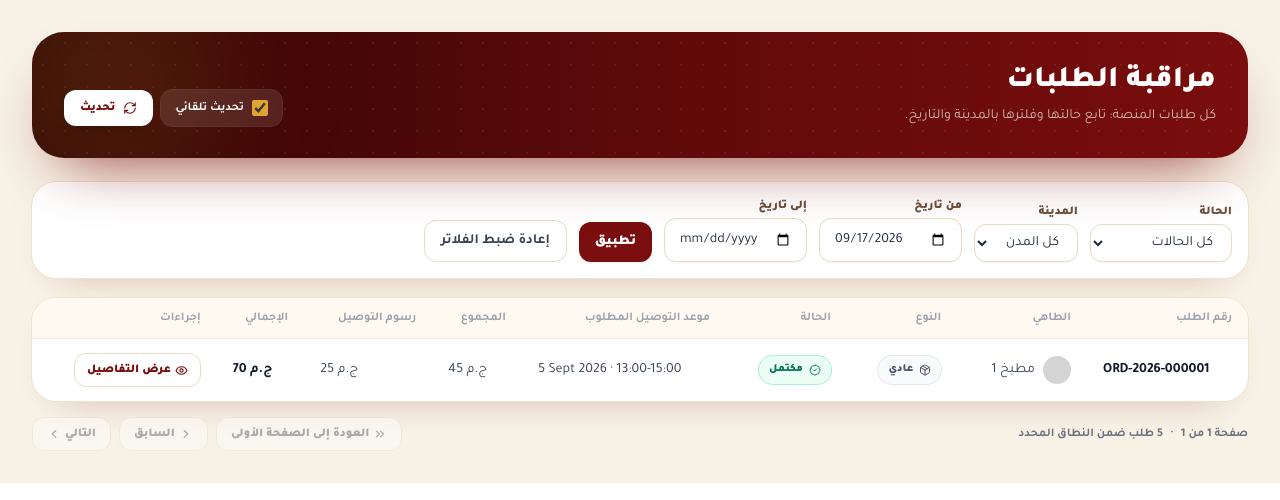
Scenario: US2 — filter by status, city, and placed-date range › AC1/AC2: status applies immediately (no Apply), and clearing it drops the param
The image size is (1280, 500).
expect the text "ORD-2026-000001" is shown: met, box [1087, 338, 1248, 401]
Select "مكتمل" in the dropdown labelled "الحالة" at [1161, 243], box [1090, 224, 1232, 262]
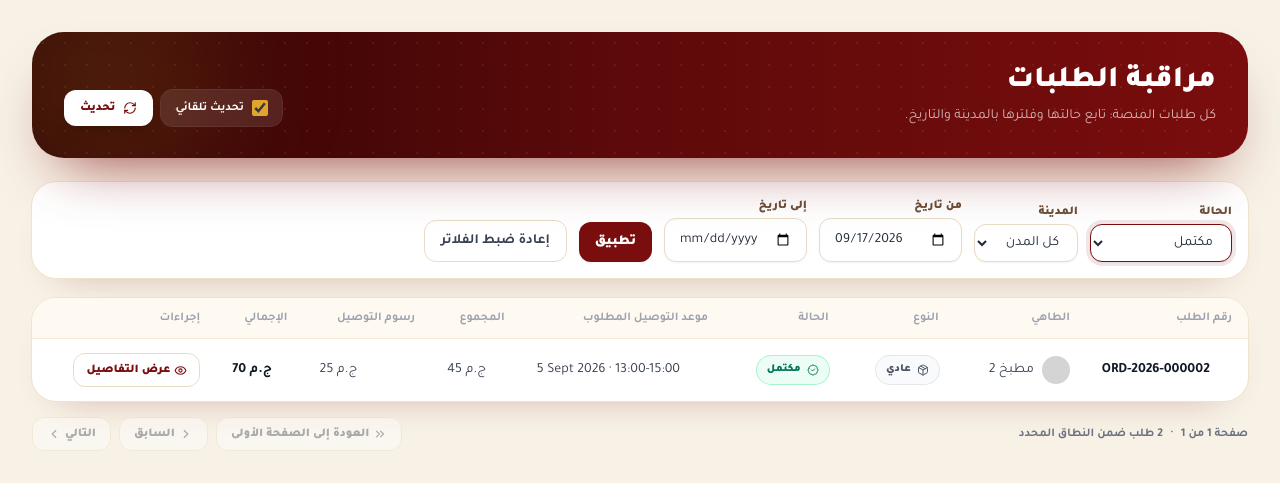
expect the text "ORD-2026-000002" is shown: met, box [1086, 338, 1248, 401]
Select "كل الحالات" in the dropdown labelled "الحالة" at [1161, 243], box [1090, 224, 1232, 262]
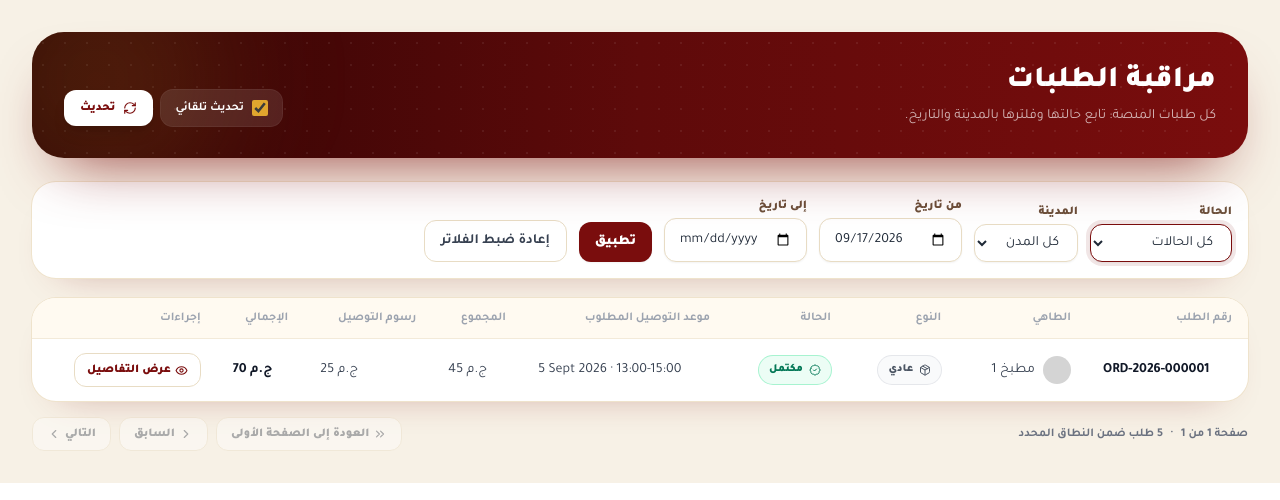
expect the text "ORD-2026-000001" is shown: met, box [1087, 338, 1248, 401]
